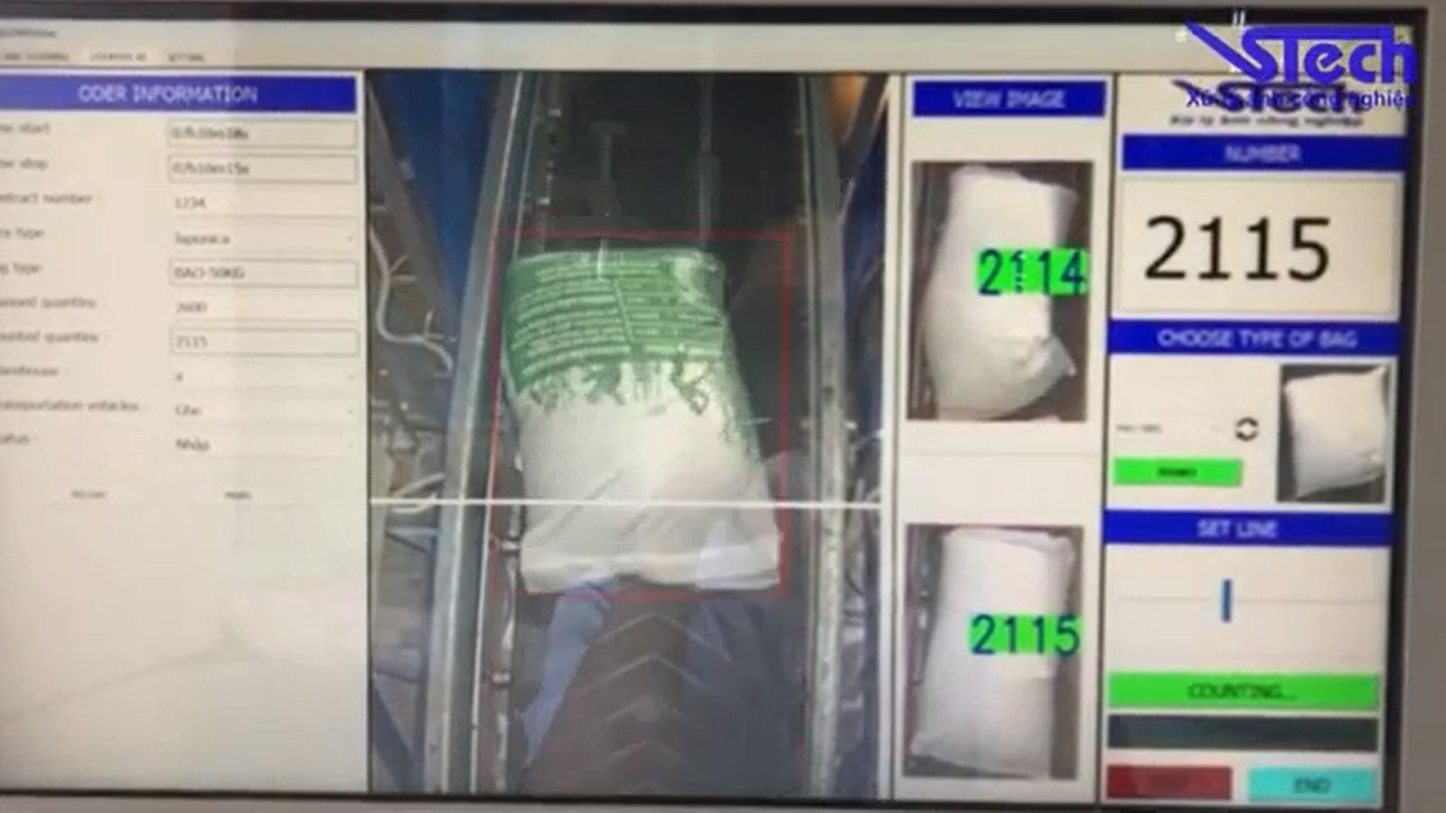rice-bag: (502, 247, 779, 591), (918, 164, 1082, 416), (911, 526, 1073, 777)
